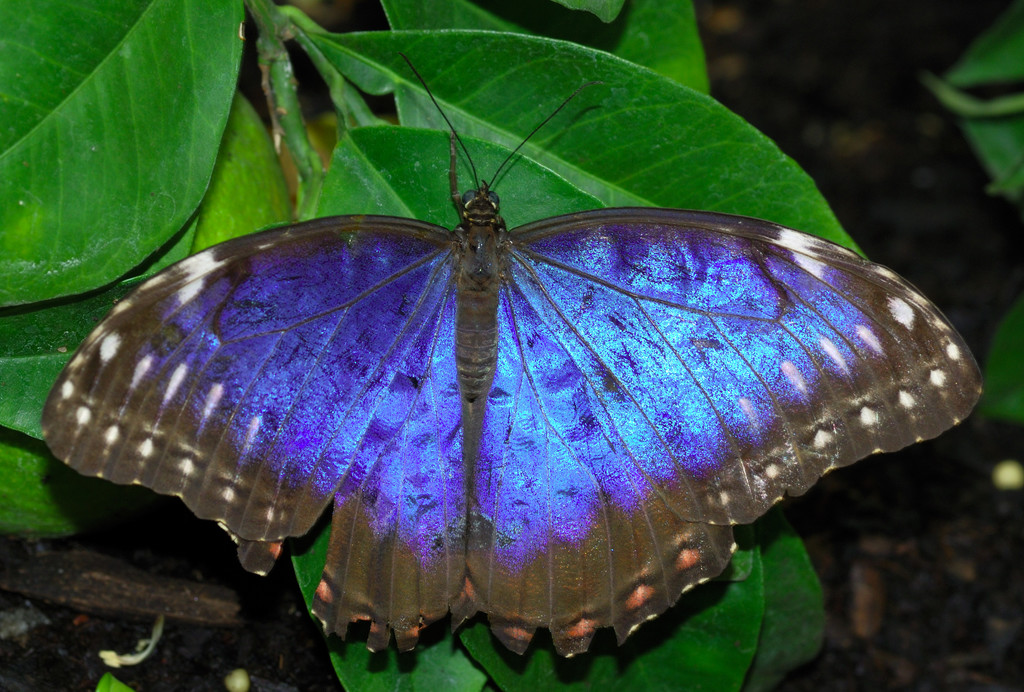Butterfly: (43, 157, 988, 665)
